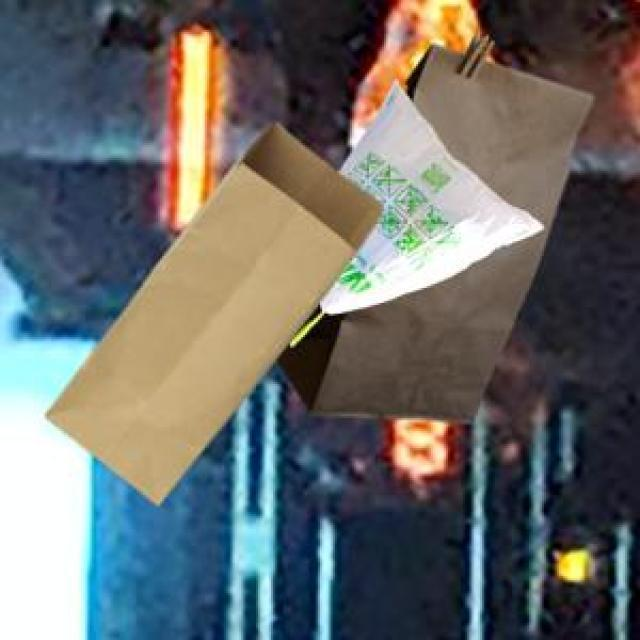paper: (43, 120, 378, 499), (273, 28, 589, 418)
